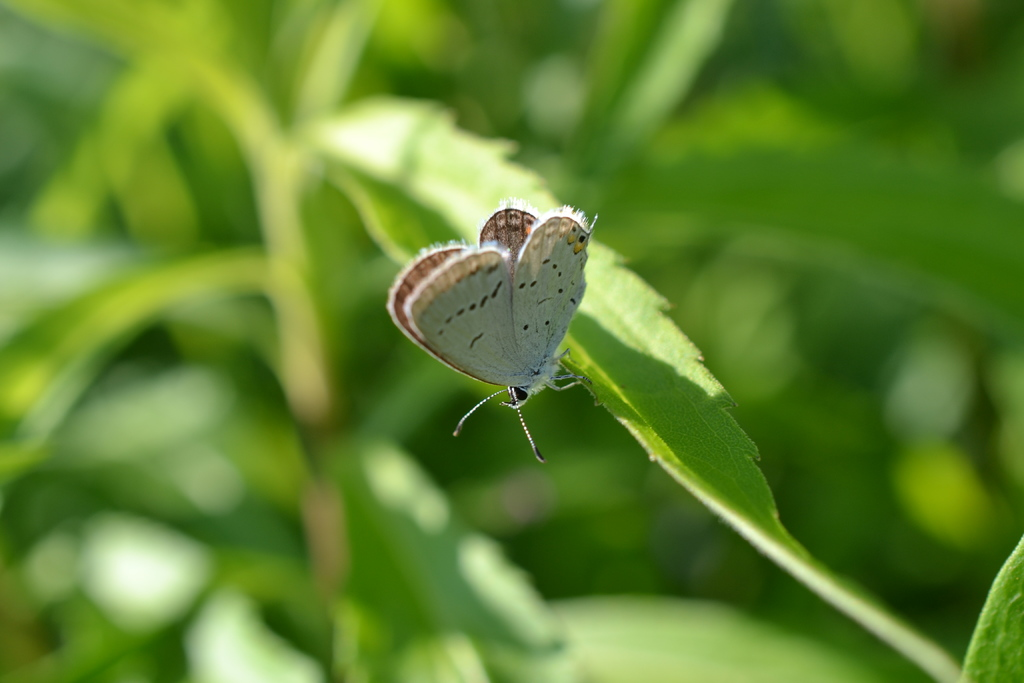Butterfly: (377, 185, 625, 471)
